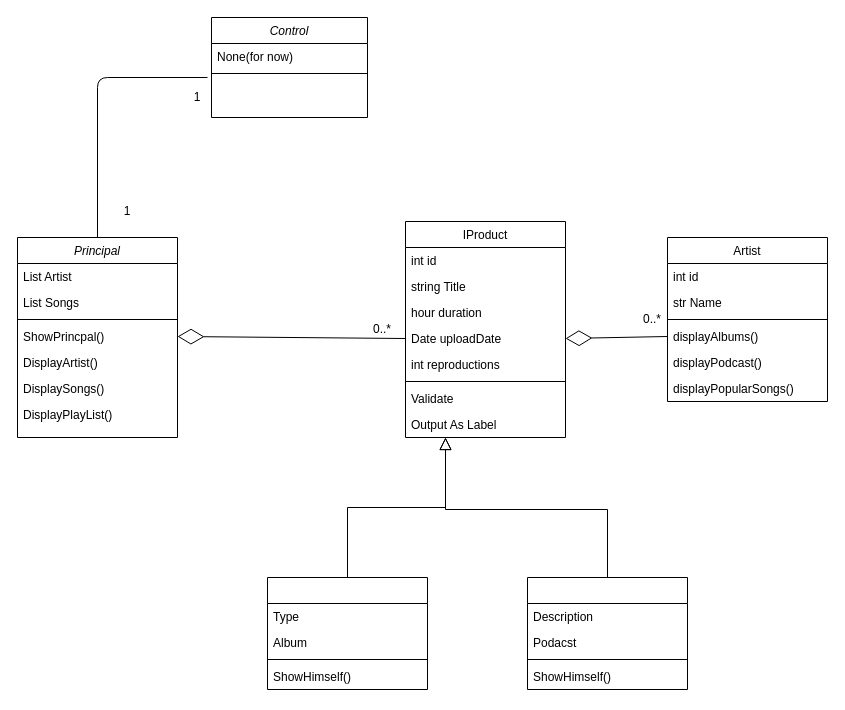
Some shapes in this 845 by 710 pixel diagram are drawn without their labels. The shapes that lost their labels are listed below. From the top down, each one's box as (x1, y1, x2, y2) in pixels, then its label:
(266, 576, 428, 690): Song
(526, 576, 688, 690): Episode
